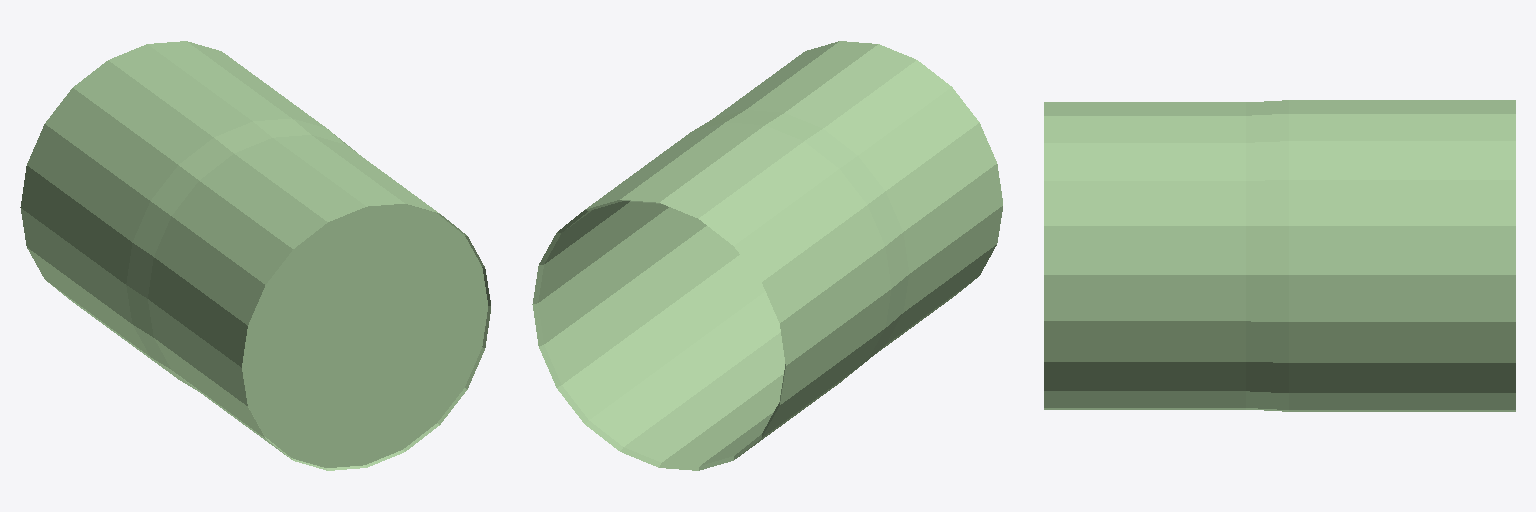
The robot description file, URDF, robot "model.urdf":
<?xml version="0.0" ?>
<robot name="model.urdf">
  <link name="baseLink">
    <contact>
      <friction_anchor/>
      <lateral_friction value="0.3"/>
      <rolling_friction value="0.0"/>
      <contact_cfm value="0.0"/>
      <contact_erp value="1.0"/>
    </contact>
    <inertial>
      <origin rpy="0 0 0" xyz="0 0 0"/>
      <mass value="0.1"/>
      <inertia ixx="3.e-04" ixy="0" ixz="0" iyy="1.6e-04" iyz="0" izz="3.e-04"/>
    </inertial>
    <visual>
      <geometry>
        <mesh filename="textured.dae" scale="1.2 1.2 1.2"/>
      </geometry>
      <material name="green">
        <color rgba="0.71 0.84 0.66 1."/>
      </material>
    </visual>
    <collision>
      <geometry>
    	 	<mesh filename="textured.dae" scale="1.2 1.2 1.2"/>
      </geometry>
    </collision>
  </link>
</robot>

--- Render facts (derived) ---
Views: 3 orthographic renders of the robot side by side, from view 1: azimuth 30°, elevation 25°; view 2: azimuth 150°, elevation 25°; view 3: azimuth 270°, elevation 25°.
Robot: model.urdf — 1 links, 0 joints (none); root link baseLink; default pose: every joint at zero.
Visible links, largest first — view 1: baseLink; view 2: baseLink; view 3: baseLink.
Link boxes in pixels (bbox=[...]): baseLink: bbox=[20, 41, 490, 470]; baseLink: bbox=[532, 41, 1002, 470]; baseLink: bbox=[1044, 100, 1515, 411].
Size in the robot's own frame: 0.12 by 0.18 by 0.12 metres.
1 mesh visuals loaded from 1 distinct referenced files (1 Collada DAE).